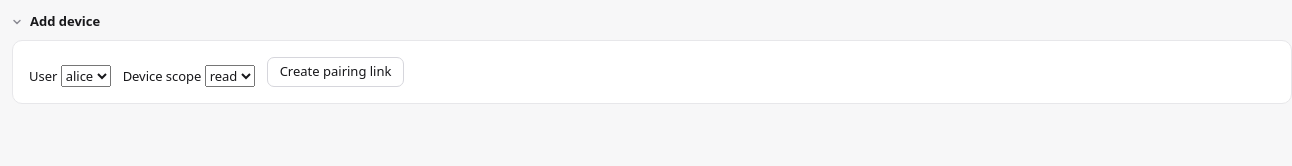
Test case: an already expired offer is cleared without exposing copy controls
The width and height of the screenshot is (1292, 166).
Click the button "Create pairing link" at {"x": 336, "y": 72}, box [267, 56, 404, 86]
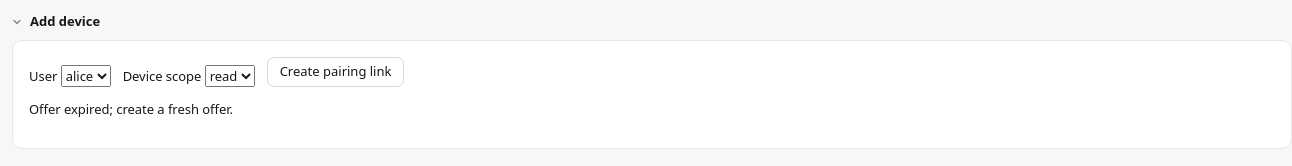
Now the text "Offer expired; create a fresh offer." is shown, box [29, 100, 233, 118]
